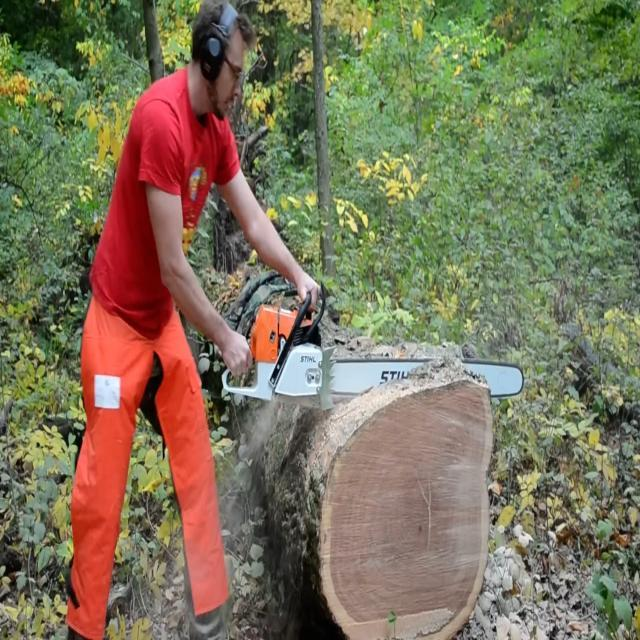Chainsaw: (200, 276, 535, 430)
